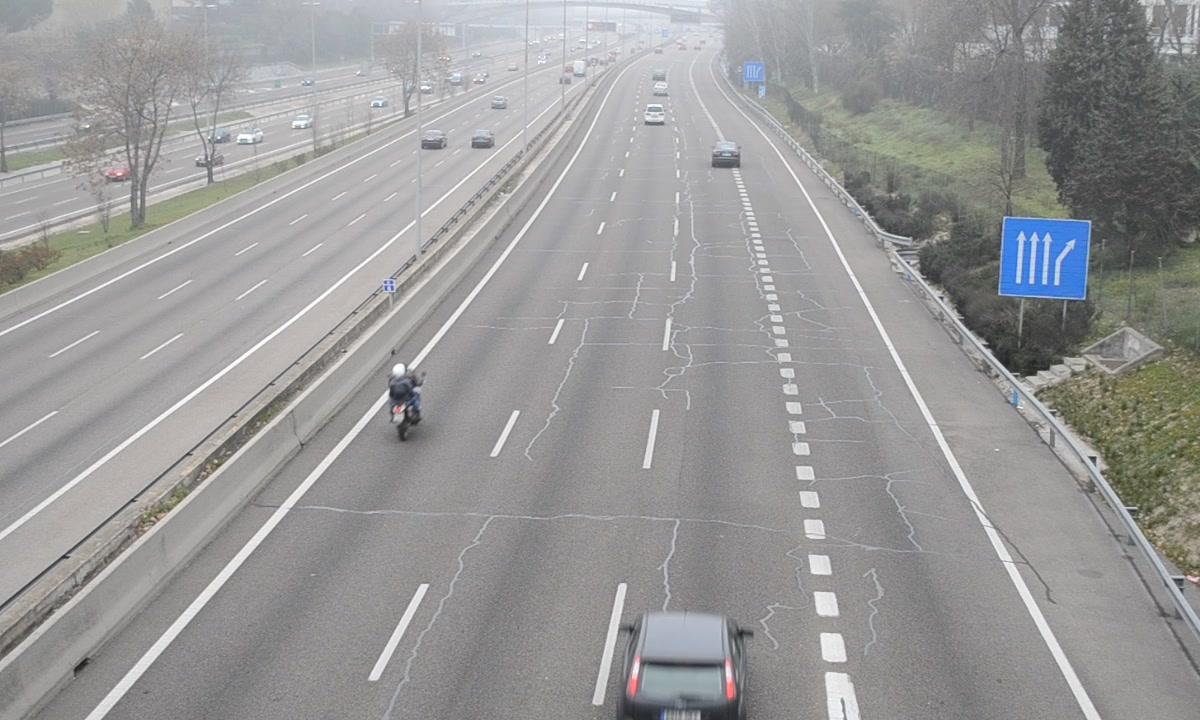car: (618, 612, 754, 720), (710, 141, 740, 168), (643, 105, 666, 127)
motorcycle: (387, 362, 425, 440)
